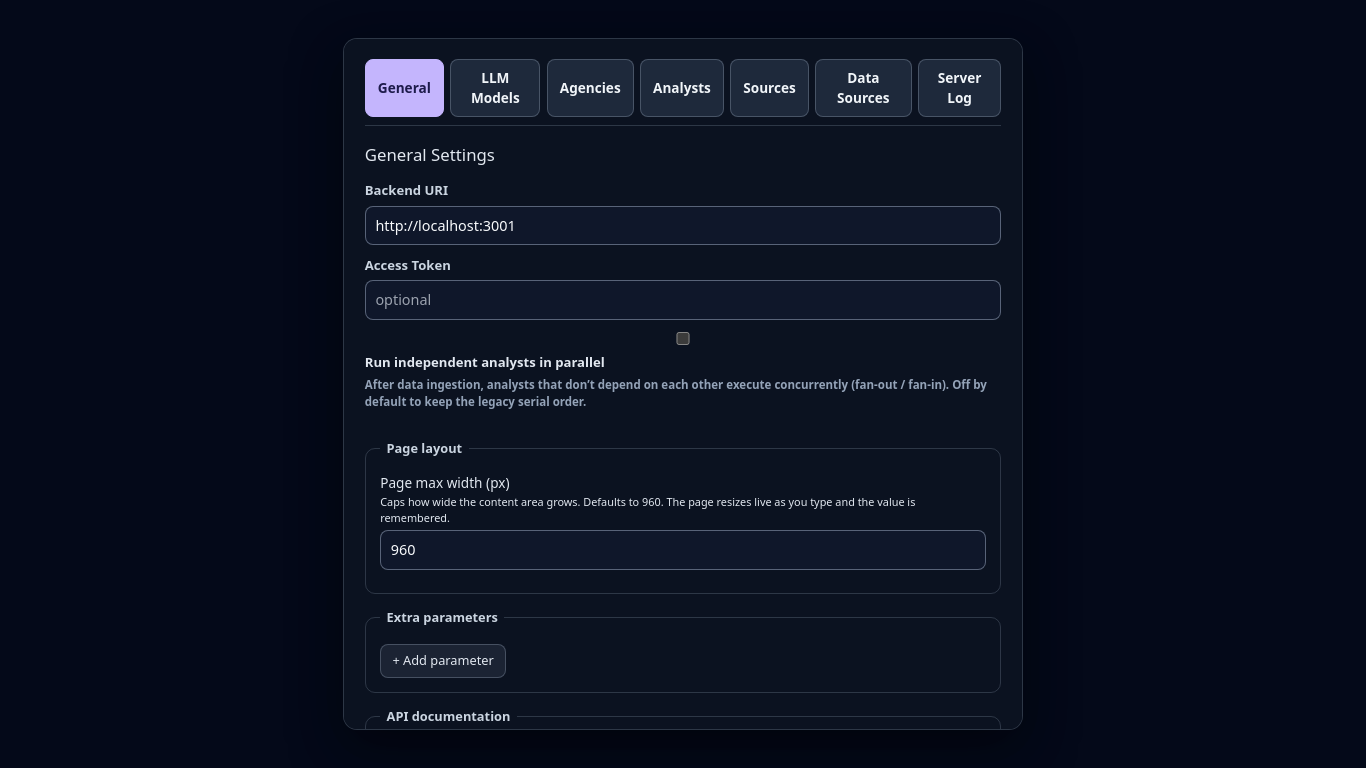
Test: SettingsDialog — Analysts tab › clicking a custom analyst row populates the form for editing
This screenshot has width=1366, height=768.
Click the tab with test id "tab-analysts". click: (682, 88)
box: [640,59,724,117]
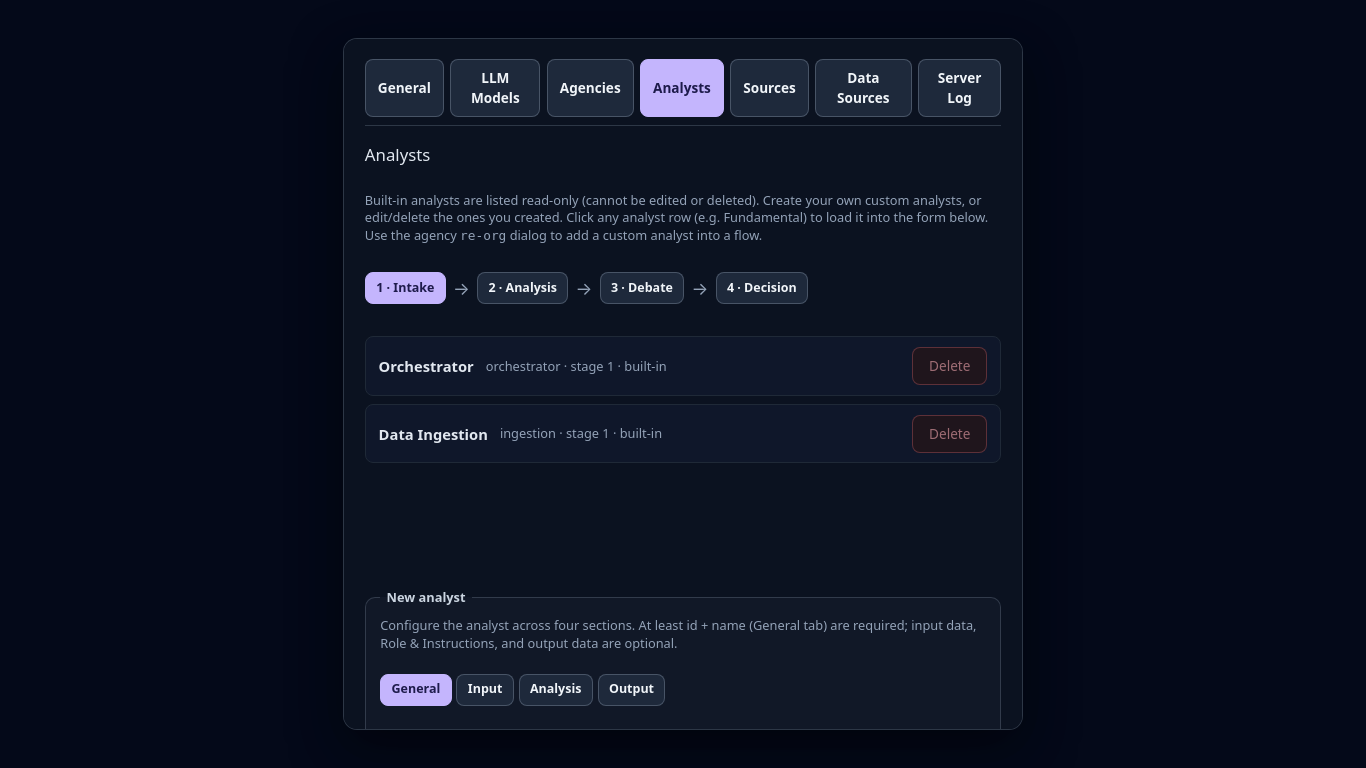
Check: the list with test id "analyst-admin-list" is shown, box [365,336,1001,464]
Click the tab with test id "analyst-stage-2". click: (523, 288)
box: [477,272,568,304]
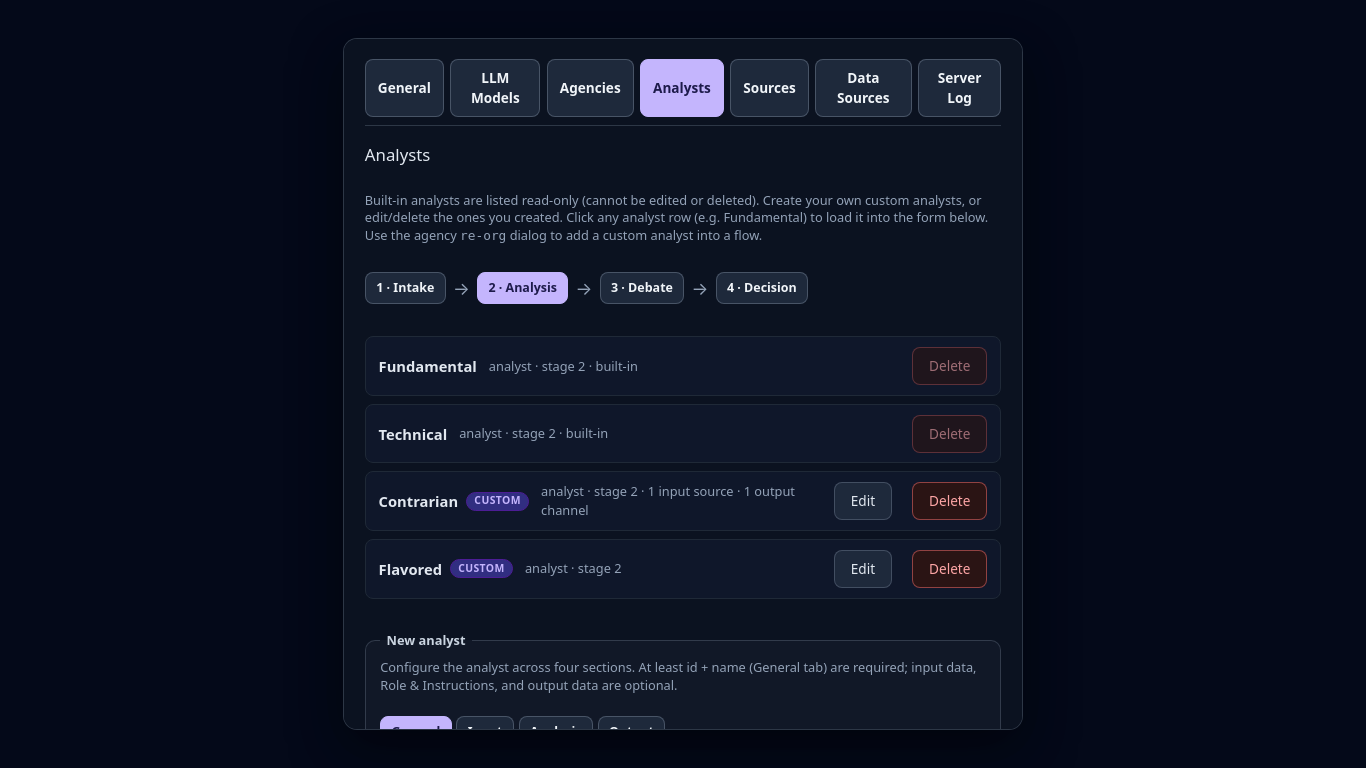
Click the list item with test id "analyst-admin-contrarian". click: (683, 501)
box: [365,472,1001,531]
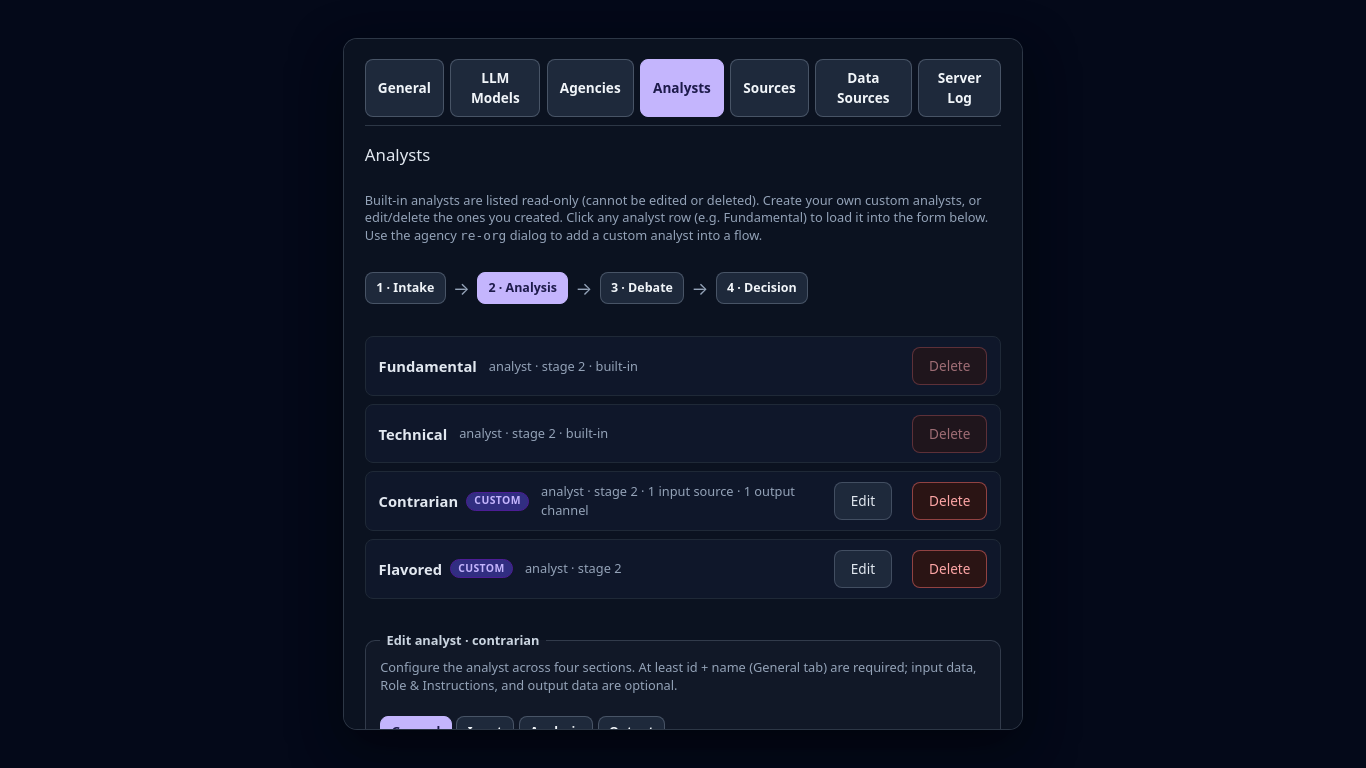
Check: the text "Edit analyst · contrarian" is shown, box [380,631,546,650]
